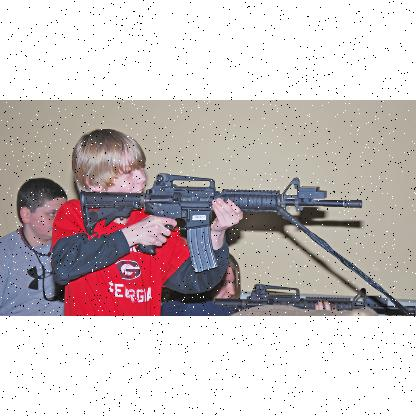gun: (81, 172, 360, 270)
